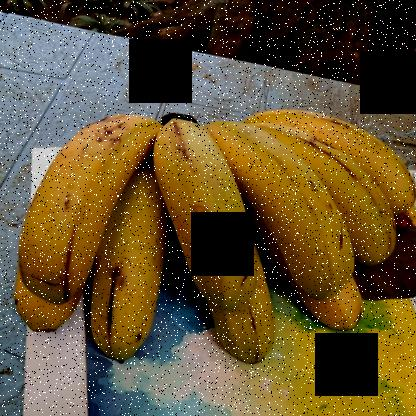ripe: (0, 110, 154, 302), (147, 117, 266, 312), (84, 187, 172, 364)
